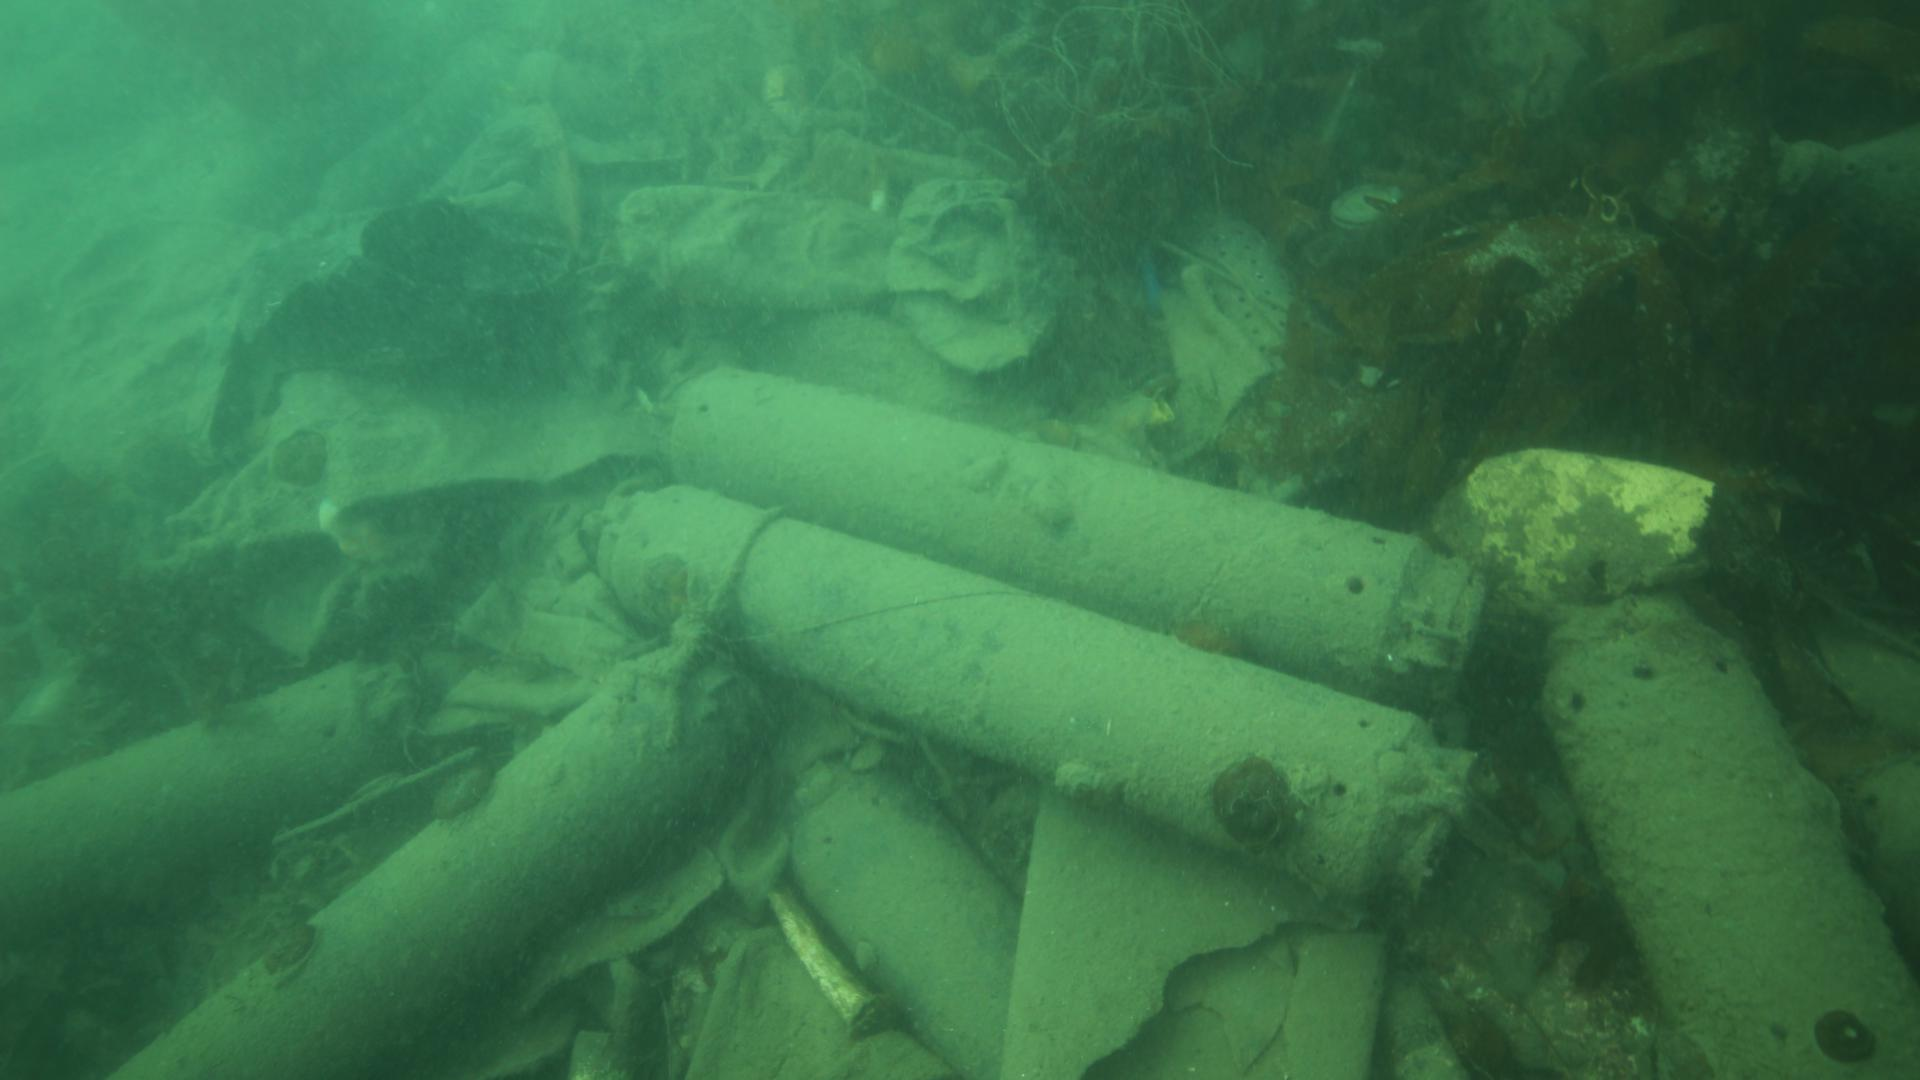bundle of ropes: (613, 501, 789, 748), (1387, 735, 1549, 884)
eel fish trap: (595, 483, 1484, 901), (109, 647, 750, 1080), (661, 357, 1484, 694), (1540, 597, 1920, 1080), (0, 651, 442, 913)
